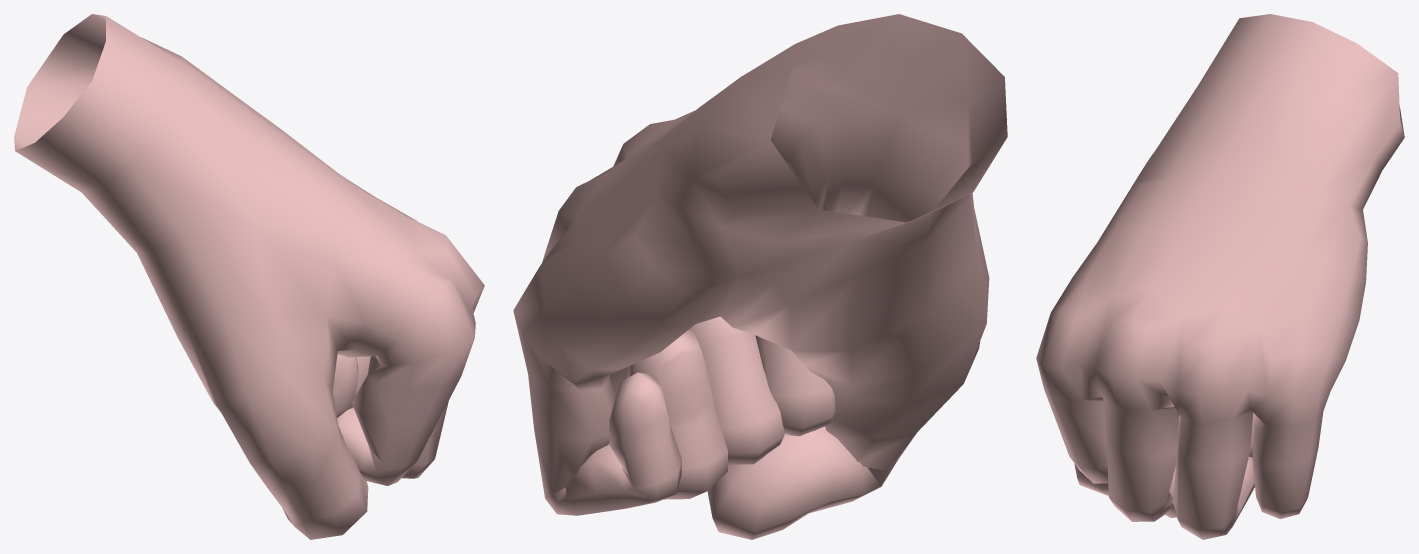
The model's file is Superhero_Male_A_Fist02.fbx.
3 renders of one model, left to right at view 1: azimuth 30°, elevation 25°; view 2: azimuth 150°, elevation 25°; view 3: azimuth 270°, elevation 25°, orthographic. The views are drawn at different scales.
Parts seen in each view (by area): view 1: Superhero_Male_A_Fist02; view 2: Superhero_Male_A_Fist02; view 3: Superhero_Male_A_Fist02.
Part boxes in pixels (bbox=[...]): Superhero_Male_A_Fist02: bbox=[14, 14, 484, 539]; Superhero_Male_A_Fist02: bbox=[513, 14, 1007, 539]; Superhero_Male_A_Fist02: bbox=[1036, 14, 1404, 539].
Size of the model in its own units: 0.6933 by 0.8288 by 0.6421.
